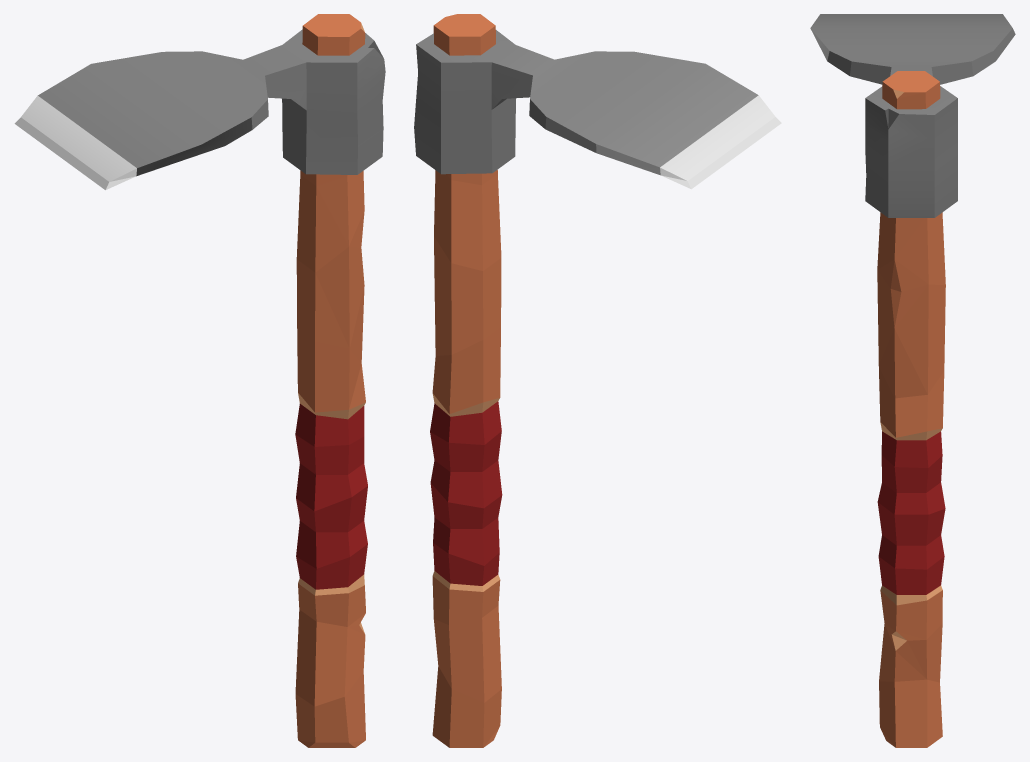
The model's file is hoe.fbx.
3 views of the same model, side by side, from view 1: azimuth 30°, elevation 25°; view 2: azimuth 150°, elevation 25°; view 3: azimuth 270°, elevation 25° (orthographic). The views are drawn at different scales.
Parts seen in each view (by area): view 1: Foodmaker_Hoe; view 2: Foodmaker_Hoe; view 3: Foodmaker_Hoe.
Part boxes in pixels (<box>): Foodmaker_Hoe: <box>14,14,385,747</box>; Foodmaker_Hoe: <box>414,14,781,747</box>; Foodmaker_Hoe: <box>810,14,1015,747</box>.
Bounding box in the file's own units: 10.03 × 21.87 × 6.21.
1 material, 1 textured.
